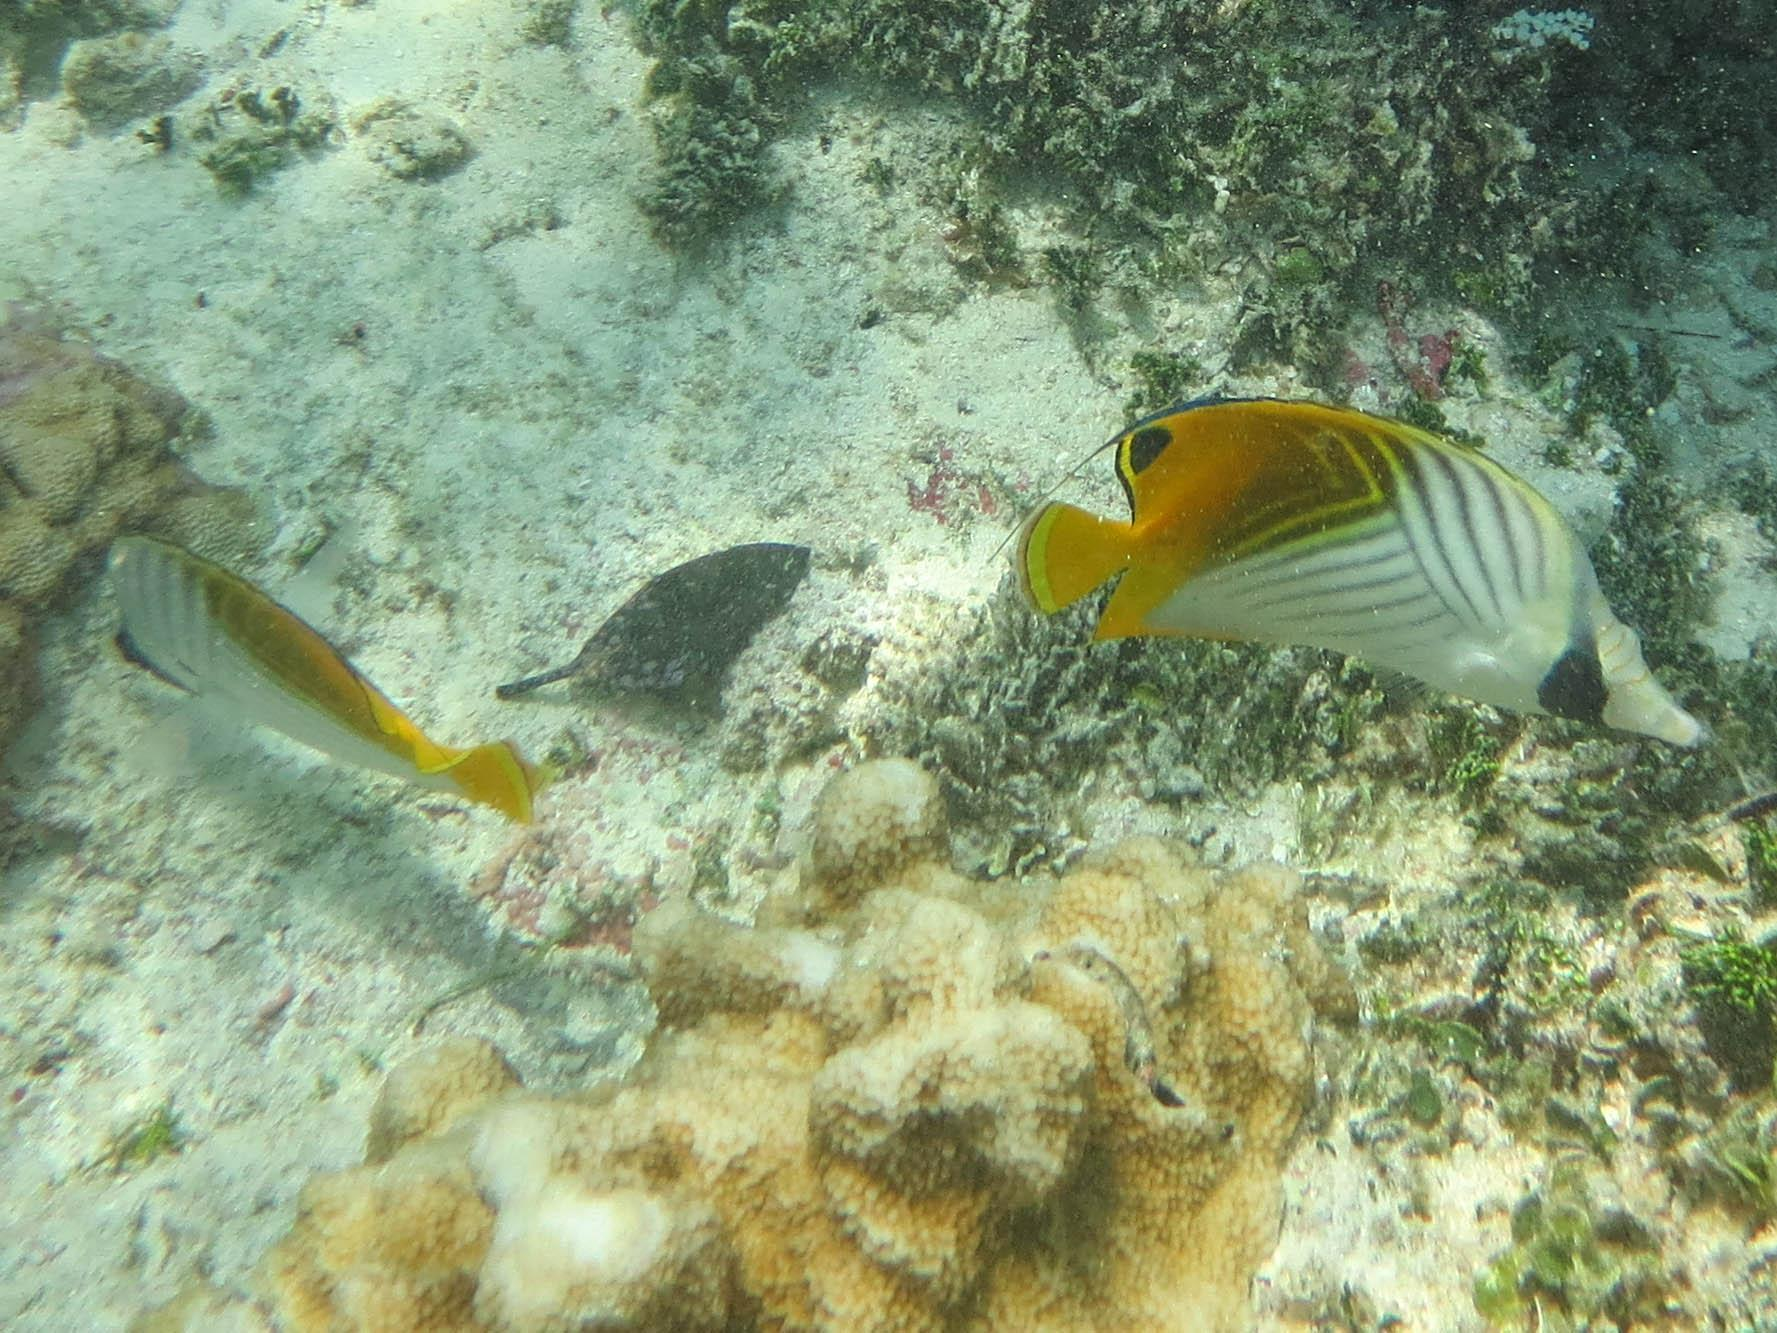Fish: (970, 328, 1722, 896), (78, 392, 559, 1004)
